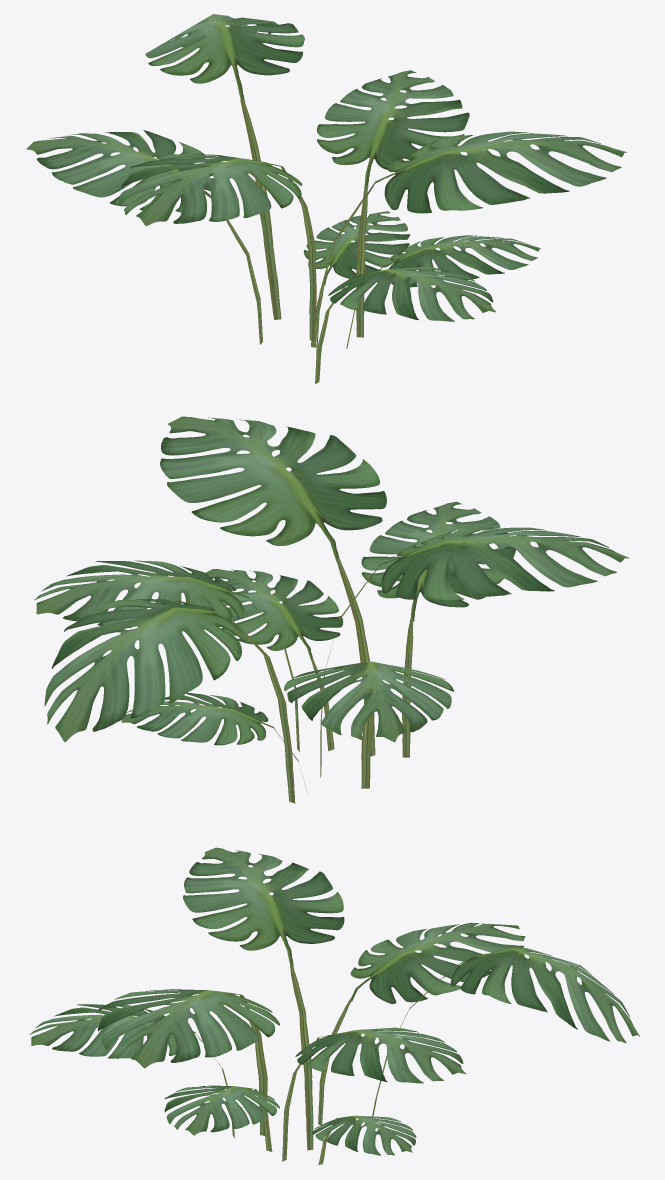
Rendered from SM_Ground_Monstera_A.fbx.
3 views of the same model, one above another, from view 1: azimuth 30°, elevation 25°; view 2: azimuth 150°, elevation 25°; view 3: azimuth 270°, elevation 25° (orthographic). The views are drawn at different scales.
Visible parts, largest first — view 1: SM_Ground_Monstera_A_LOD0; view 2: SM_Ground_Monstera_A_LOD0; view 3: SM_Ground_Monstera_A_LOD0.
Part boxes in pixels (x1,y1,x2,y2): SM_Ground_Monstera_A_LOD0: (26,14,626,383); SM_Ground_Monstera_A_LOD0: (34,416,629,803); SM_Ground_Monstera_A_LOD0: (29,847,639,1165).
Size of the model in its own units: 85.26 by 104 by 40.67.
Materials: 1 (1 with a texture image).
